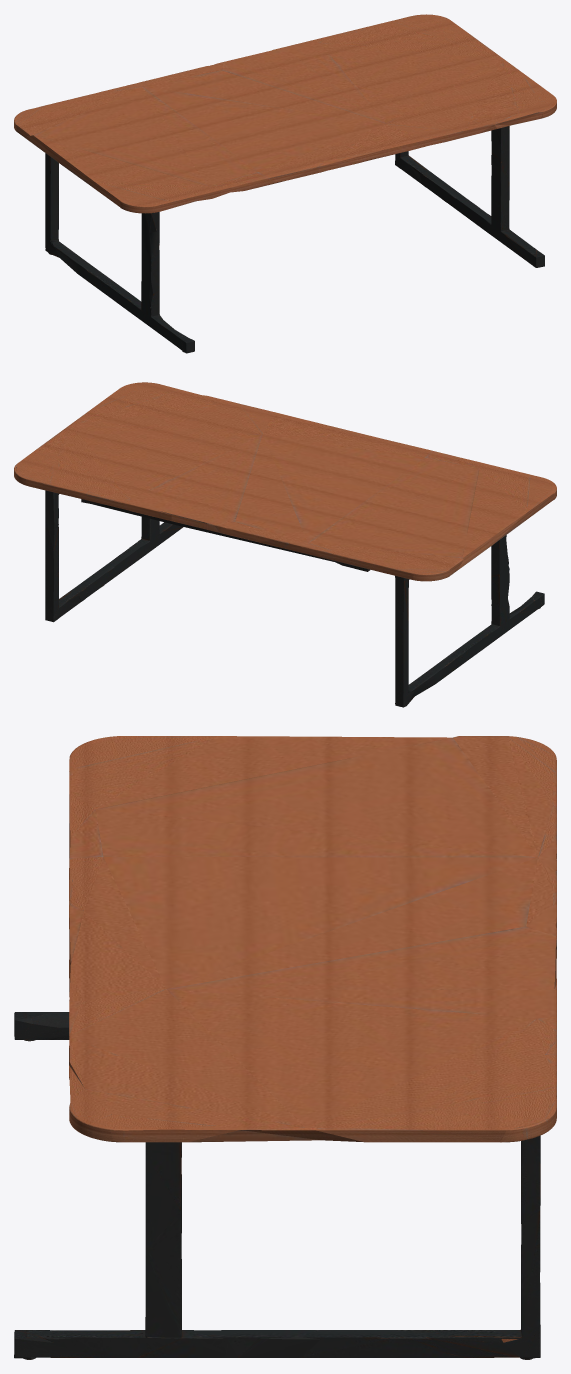
The model's file is lead_desk.glb.
3 renders of one model, top to bottom at view 1: azimuth 30°, elevation 25°; view 2: azimuth 150°, elevation 25°; view 3: azimuth 270°, elevation 25°, orthographic. The views are drawn at different scales.
Bounding box in the file's own units: 1.9 × 0.5966 × 1.11.
1 material, 1 textured.
